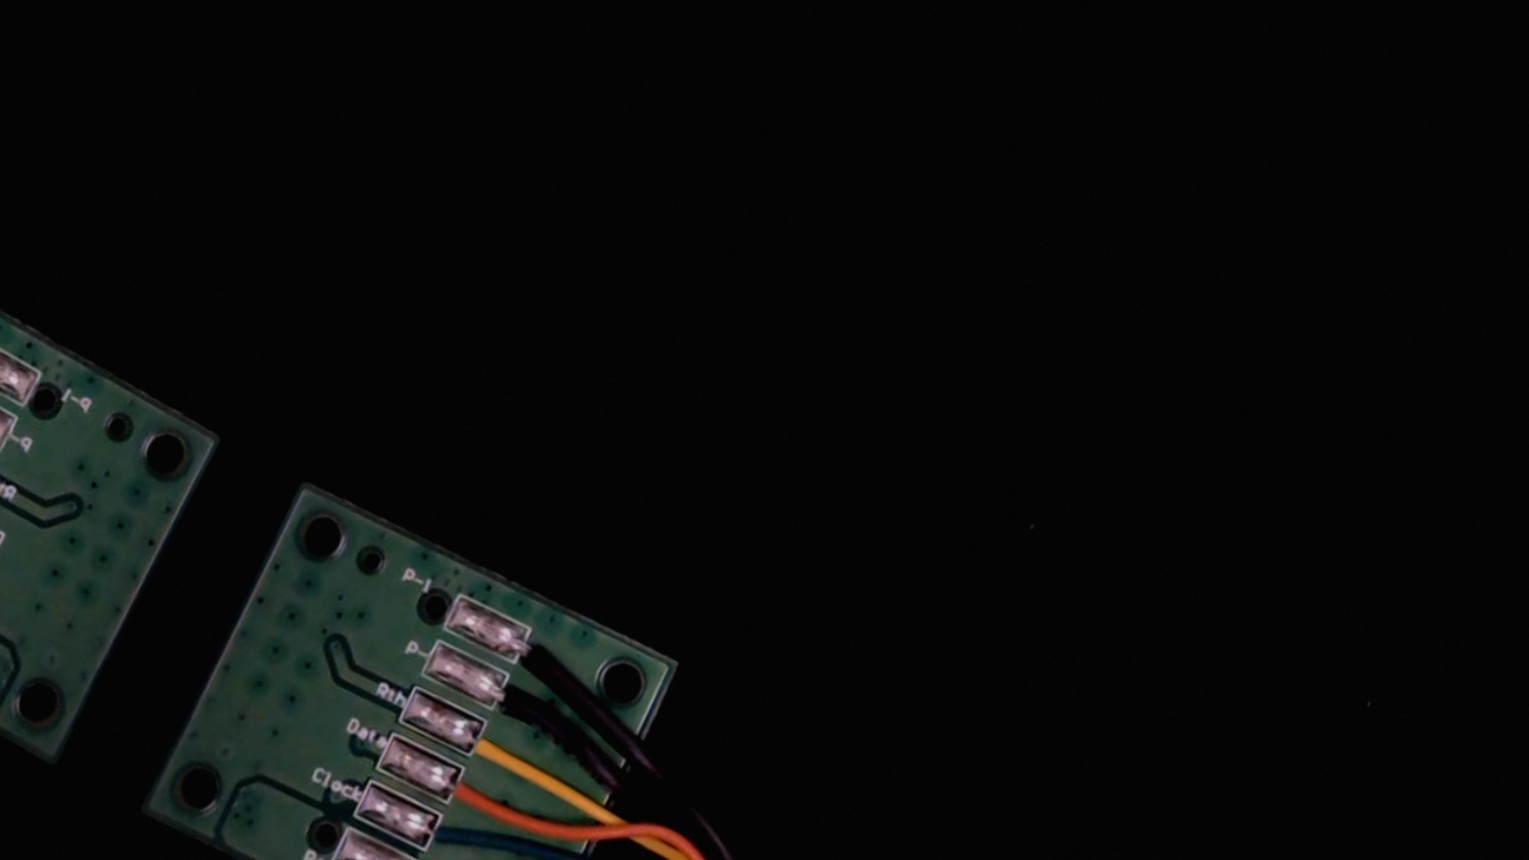Black: (472, 664, 563, 740)
Black1: (494, 617, 589, 696)
Green: (403, 803, 489, 860)
Orange: (430, 758, 520, 834)
Red: (384, 852, 484, 860)
Yellow: (447, 714, 541, 790)
